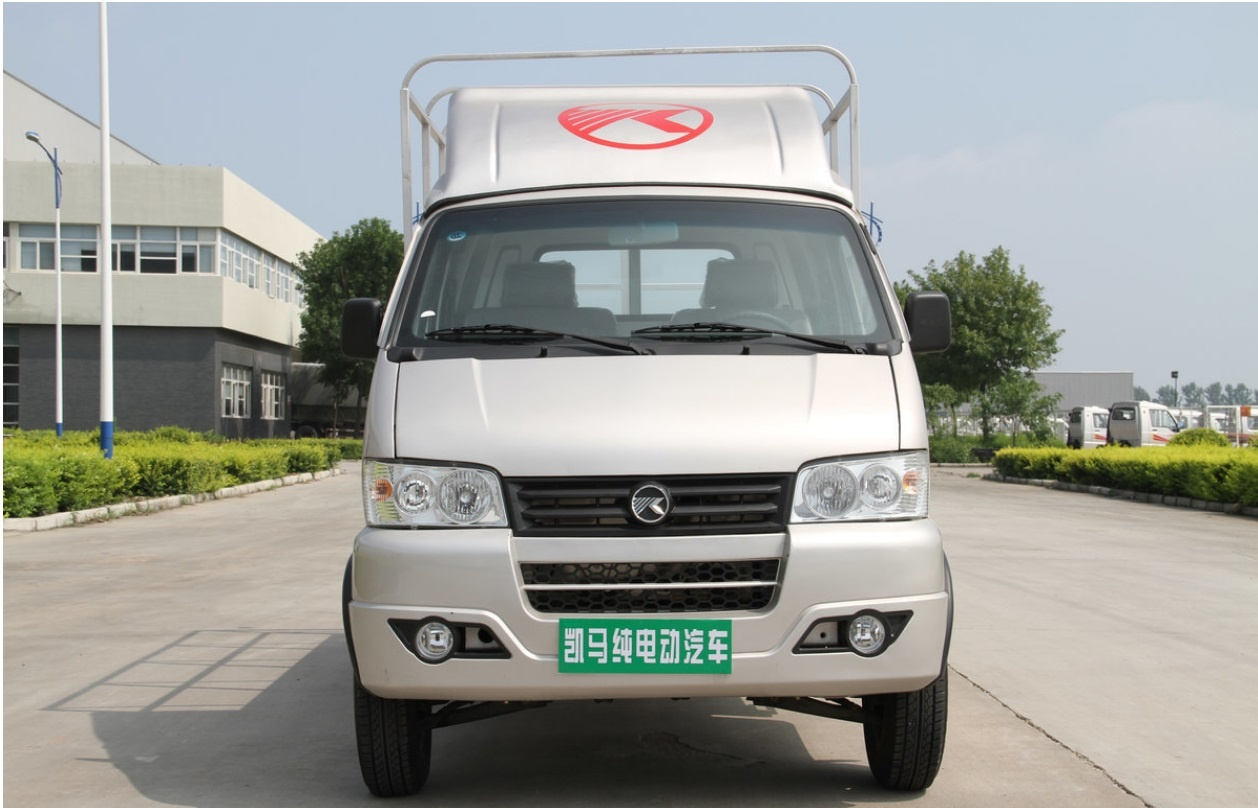truck: (305, 29, 975, 788)
